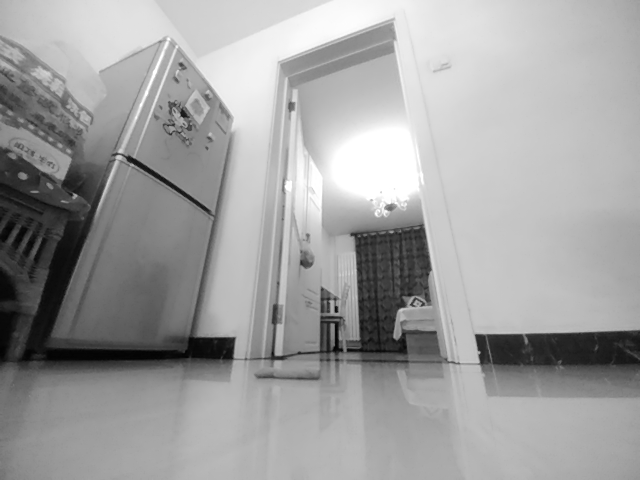curtain: (350, 228, 408, 354)
pet feces: (254, 359, 323, 380)
